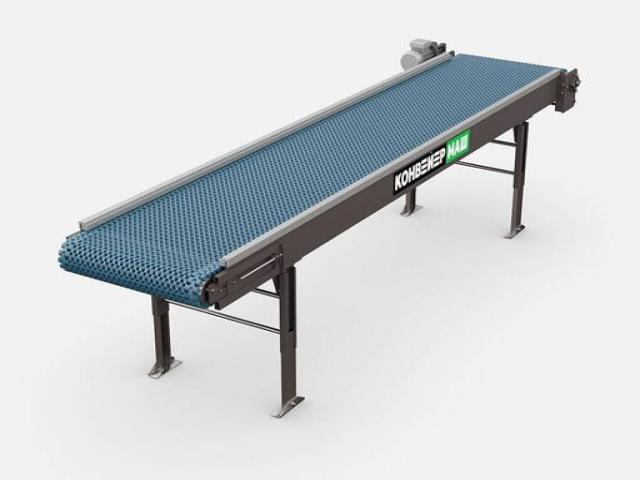conveyor: (55, 41, 587, 327)
